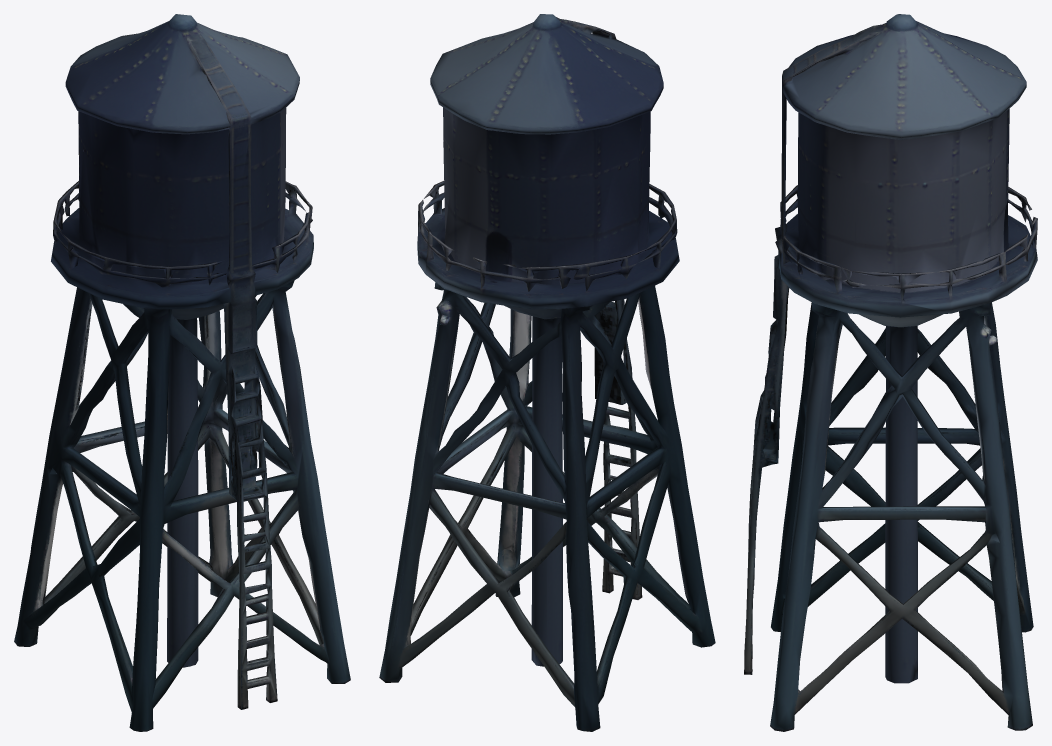
Rendered from water_tower.glb.
3 views of the same model, side by side, from view 1: azimuth 30°, elevation 25°; view 2: azimuth 150°, elevation 25°; view 3: azimuth 270°, elevation 25° (orthographic). The views are drawn at different scales.
Parts seen in each view (by area): view 1: world; view 2: world; view 3: world.
Part boxes in pixels (bbox=[...]): world: bbox=[14, 14, 350, 731]; world: bbox=[379, 14, 715, 731]; world: bbox=[744, 14, 1037, 731].
Size of the model in its own units: 0.3729 by 1 by 0.4028.
1 material, 1 textured.
